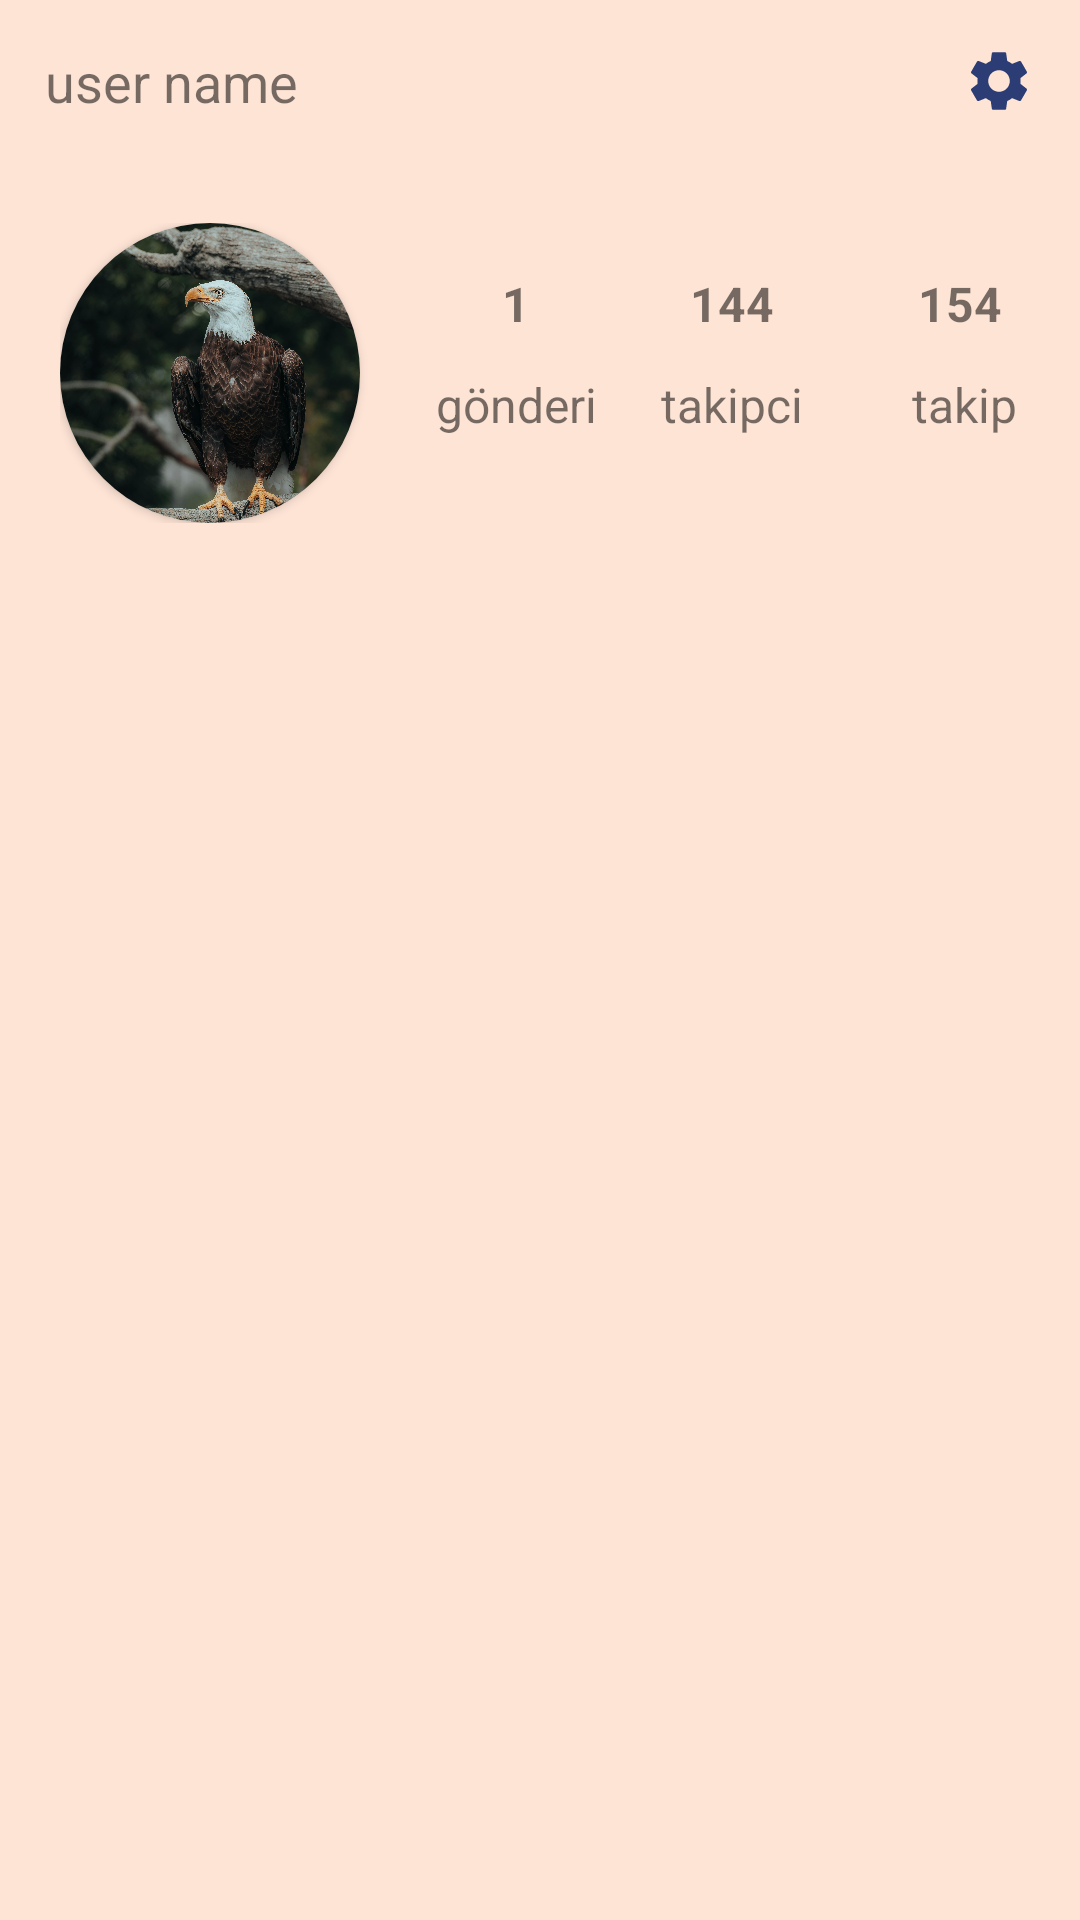

Where to tap for icons on this 1080px x 1920px app screen, as (x=x, y=y):
kartal: (x=210, y=373)
settings: (x=999, y=81)
